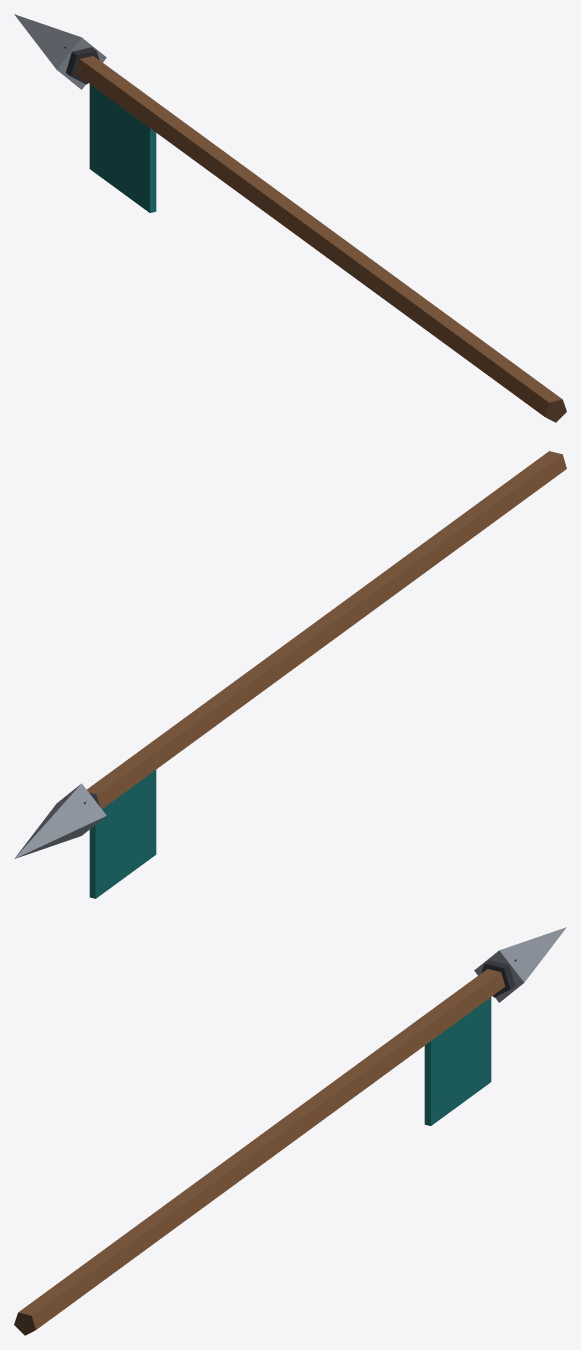
The model's file is prop_spear.glb.
3 renders of one model, top to bottom at view 1: azimuth 30°, elevation 25°; view 2: azimuth 150°, elevation 25°; view 3: azimuth 330°, elevation 25°, orthographic.
Visible parts, largest first — view 1: prop_spear; view 2: prop_spear; view 3: prop_spear.
Boxes of the visible parts, x1,y1,x2,y2 form: prop_spear: (14, 14, 566, 422); prop_spear: (14, 451, 566, 898); prop_spear: (14, 927, 566, 1335).
Bounding box in the file's own units: 0.024 × 0.056 × 0.448.
1 material, 1 textured.
